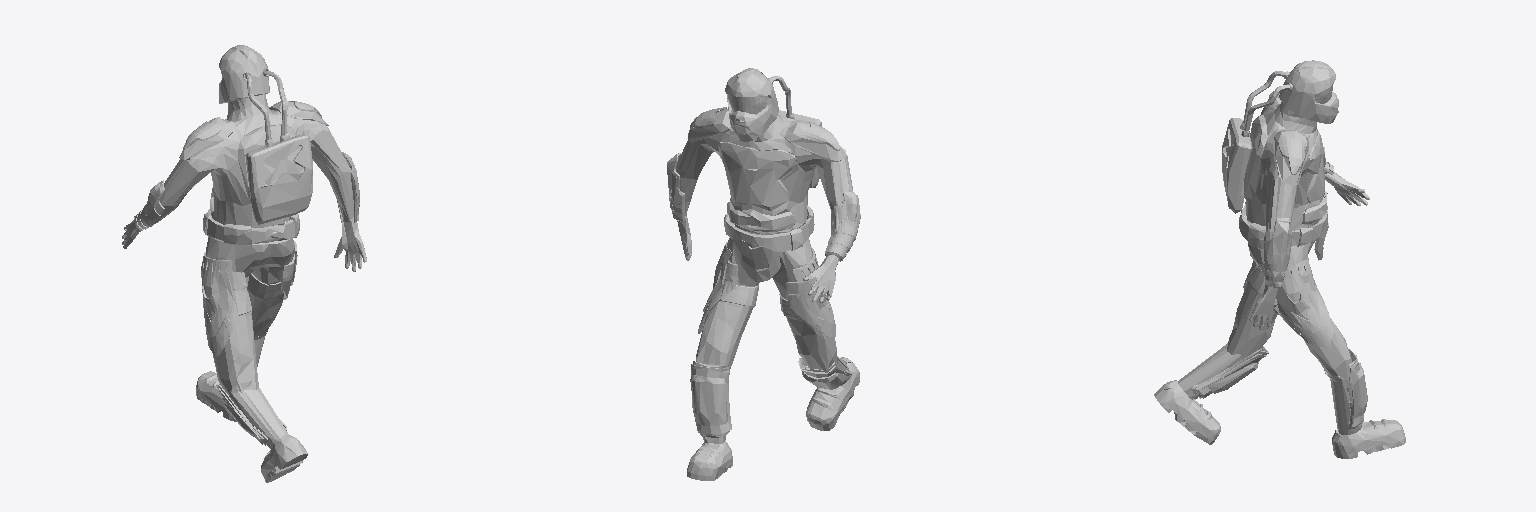
3 renders of one model, left to right at view 1: azimuth 30°, elevation 25°; view 2: azimuth 150°, elevation 25°; view 3: azimuth 270°, elevation 25°, orthographic.
Parts seen in each view (by area): view 1: personaje:CAMISETABUENA polySurface1, personaje:extrudedSurface2 polySurface1, personaje:PANTALON polySurface1, personaje:bota1 polySurface1, personaje:pPipe4 polySurface1, personaje:cosoarmdaurapierna1 polySurface1, personaje:cinturon polySurface1, personaje:pCube4 polySurface1, personaje:polySurface6 polySurface1, personaje:polySurface2 polySurface1; view 2: personaje:pPipe4 polySurface1, personaje:CAMISETABUENA polySurface1, personaje:PANTALON polySurface1, personaje:bota1 polySurface1, personaje:cinturon polySurface1, personaje:extrudedSurface2 polySurface1, personaje:armadbota1 polySurface1, personaje:pCube4 polySurface1, personaje:polySurface2 polySurface1, personaje:cosoarmdaurapierna1 polySurface1, personaje:polySurface6 polySurface1, personaje:gafas polySurface1 (+2 smaller); view 3: personaje:bota1 polySurface1, personaje:pPipe4 polySurface1, personaje:extrudedSurface2 polySurface1, personaje:CAMISETABUENA polySurface1, personaje:PANTALON polySurface1, personaje:pCube4 polySurface1, personaje:armadbota1 polySurface1, personaje:cinturon polySurface1, personaje:cosoarmadurapierna2 polySurface1, personaje:hombro1 polySurface1.
Boxes of the visible parts, x1,y1,x2,y2 form: personaje:CAMISETABUENA polySurface1: [157, 94, 353, 244]; personaje:extrudedSurface2 polySurface1: [219, 45, 312, 224]; personaje:PANTALON polySurface1: [206, 221, 294, 411]; personaje:bota1 polySurface1: [196, 330, 307, 482]; personaje:pPipe4 polySurface1: [123, 101, 366, 265]; personaje:cosoarmdaurapierna1 polySurface1: [201, 252, 246, 336]; personaje:cinturon polySurface1: [203, 199, 299, 245]; personaje:pCube4 polySurface1: [204, 241, 297, 445]; personaje:polySurface6 polySurface1: [239, 273, 283, 315]; personaje:polySurface2 polySurface1: [134, 182, 160, 230]; personaje:pPipe4 polySurface1: [667, 109, 846, 296]; personaje:CAMISETABUENA polySurface1: [676, 111, 852, 234]; personaje:PANTALON polySurface1: [696, 224, 836, 370]; personaje:bota1 polySurface1: [687, 356, 859, 480]; personaje:cinturon polySurface1: [724, 205, 814, 281]; personaje:extrudedSurface2 polySurface1: [725, 68, 821, 187]; personaje:armadbota1 polySurface1: [690, 361, 850, 435]; personaje:pCube4 polySurface1: [691, 242, 851, 437]; personaje:polySurface2 polySurface1: [825, 194, 860, 261]; personaje:cosoarmdaurapierna1 polySurface1: [786, 247, 833, 330]; personaje:polySurface6 polySurface1: [721, 285, 802, 319]; personaje:gafas polySurface1: [728, 94, 769, 114]; personaje:bota1 polySurface1: [1154, 337, 1405, 458]; personaje:pPipe4 polySurface1: [1244, 94, 1366, 324]; personaje:extrudedSurface2 polySurface1: [1222, 60, 1338, 213]; personaje:CAMISETABUENA polySurface1: [1246, 102, 1326, 247]; personaje:PANTALON polySurface1: [1227, 214, 1351, 391]; personaje:pCube4 polySurface1: [1192, 258, 1363, 429]; personaje:armadbota1 polySurface1: [1195, 348, 1367, 428]; personaje:cinturon polySurface1: [1239, 201, 1328, 260]; personaje:cosoarmadurapierna2 polySurface1: [1264, 267, 1332, 348]; personaje:hombro1 polySurface1: [1278, 136, 1306, 174].
Bounding box in the file's own units: 5.09 × 9.51 × 5.56.